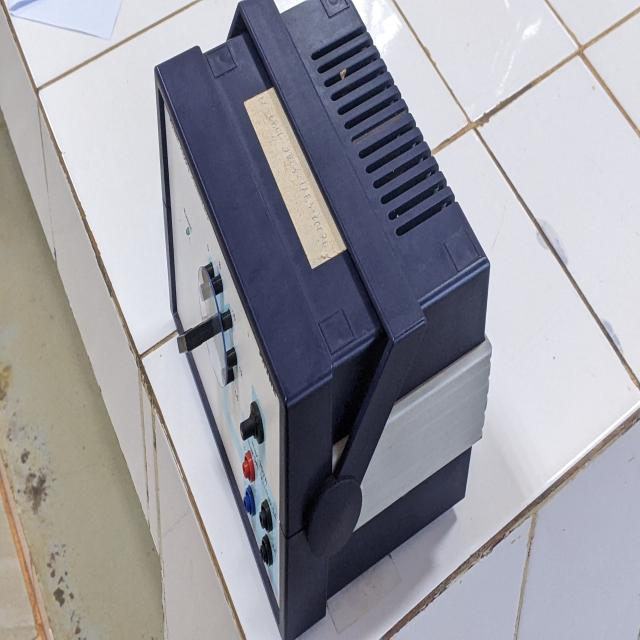Power Supply Stufentrafo_75VA: (147, 7, 512, 633)
